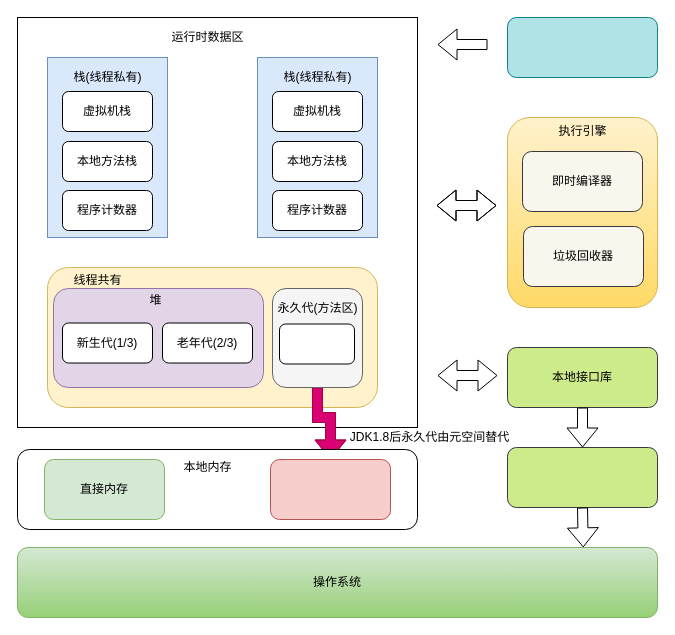
The diagram is 675 pixels wide and 635 high, and some of its shapes have lost their labels. The box of each missing label's shape, as (x1, y1, x2, y2) in pixels:
元空间: (270, 458, 390, 520)
本地方法库: (506, 446, 658, 508)
类加载器: (506, 16, 658, 78)
运行时常量池: (278, 323, 354, 364)
